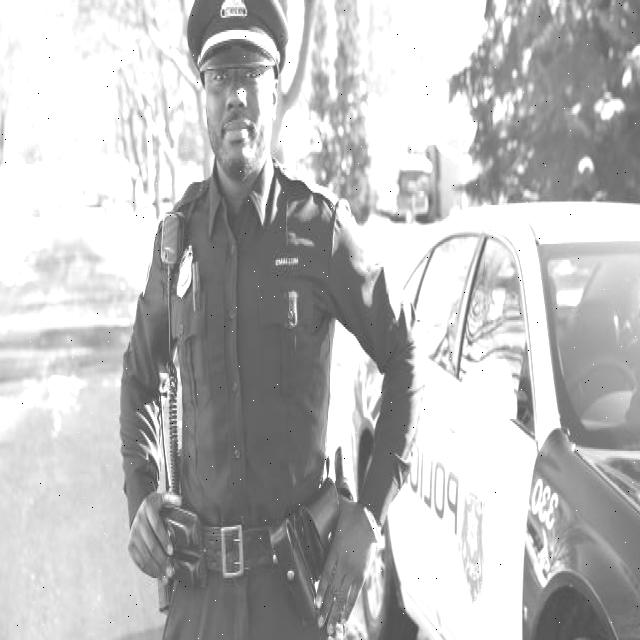police: (110, 0, 410, 638)
